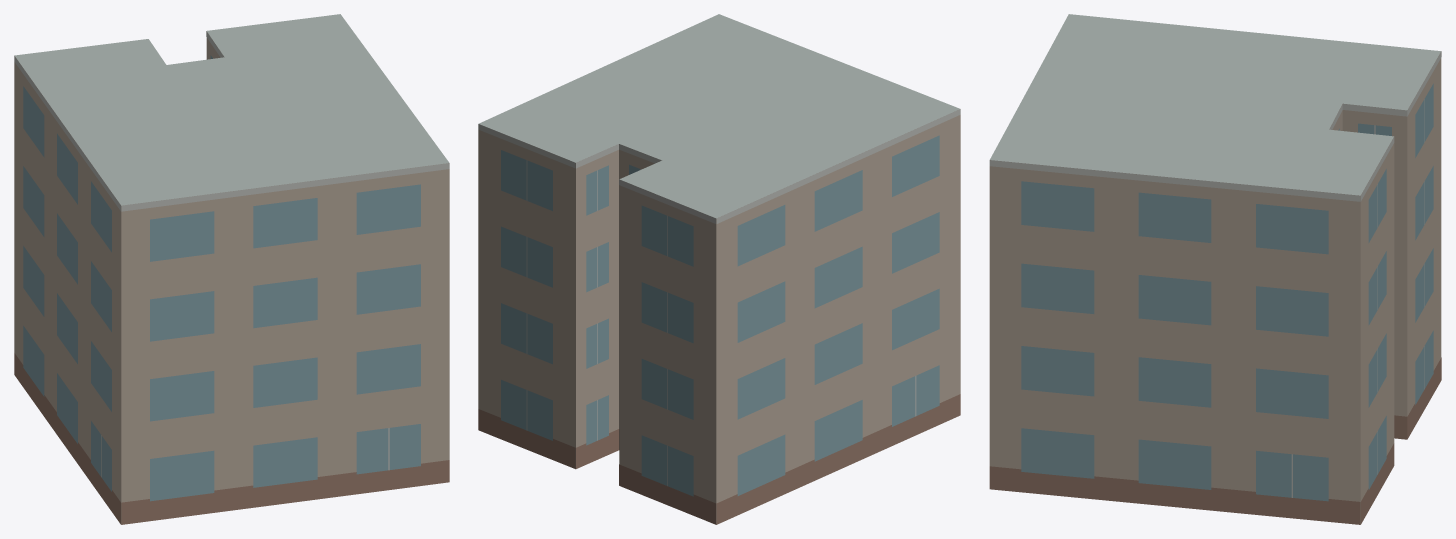
File: survey-upis-33038760.glb
3 renders of one model, left to right at view 1: azimuth 30°, elevation 25°; view 2: azimuth 150°, elevation 25°; view 3: azimuth 270°, elevation 25°, orthographic. The views are drawn at different scales.
Parts seen in each view (by area): view 1: survey-upis-33038760.tmp; view 2: survey-upis-33038760.tmp; view 3: survey-upis-33038760.tmp.
Part boxes in pixels (x1,y1,x2,y2): survey-upis-33038760.tmp: (14, 14, 449, 524); survey-upis-33038760.tmp: (478, 14, 960, 524); survey-upis-33038760.tmp: (989, 14, 1441, 524).
Bounding box in the file's own units: 15.27 × 12.9 × 16.05.
